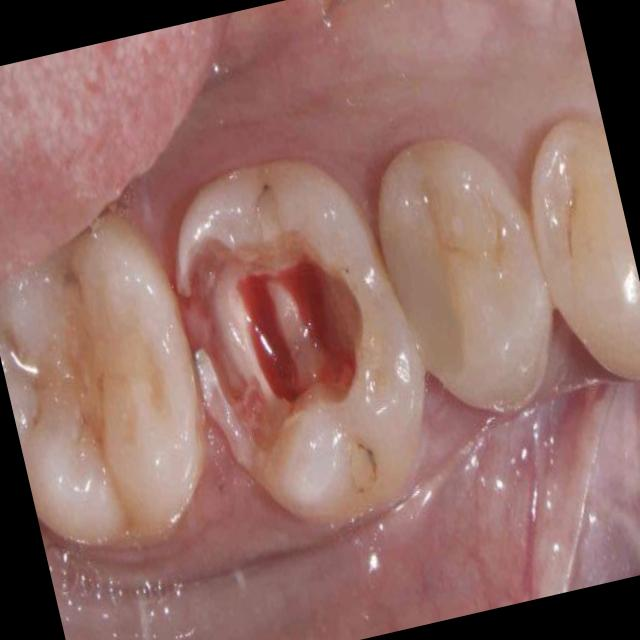Caries: (359, 444, 376, 476), (568, 217, 573, 257), (262, 185, 271, 193)
Cavity: (183, 236, 359, 476)
Tooth: (175, 161, 430, 518), (0, 215, 201, 549), (378, 138, 552, 414), (532, 119, 640, 375)
